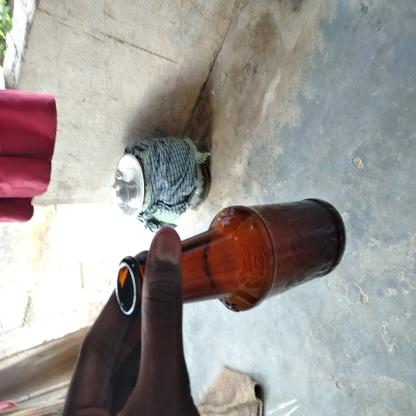bottle: (74, 153, 166, 416)
